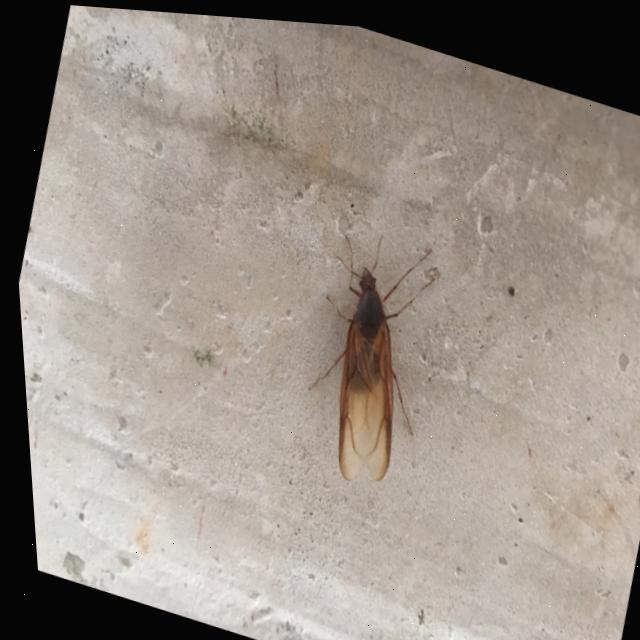Alive-Male-Alate: (274, 210, 457, 496)
